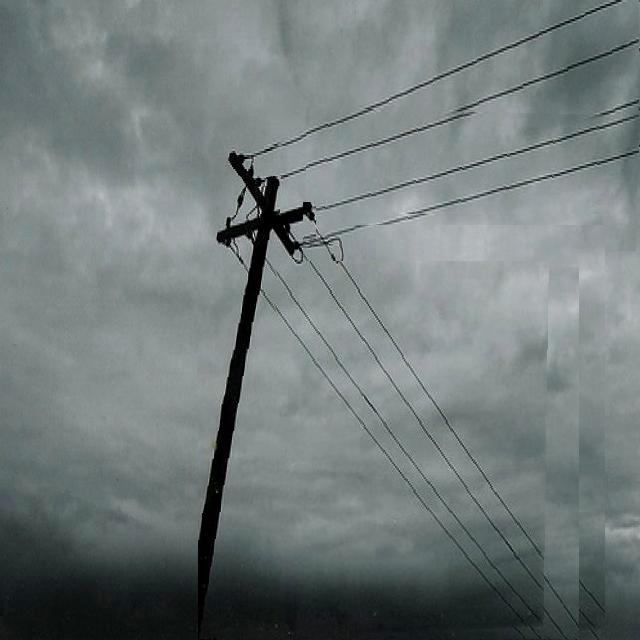crossarm: (228, 146, 303, 266), (216, 202, 316, 246)
pole: (198, 176, 281, 640)
wire: (227, 243, 515, 640), (314, 225, 605, 612), (294, 247, 571, 639), (264, 262, 545, 630), (247, 0, 629, 160), (279, 45, 640, 181), (290, 154, 637, 251), (306, 114, 640, 214)
